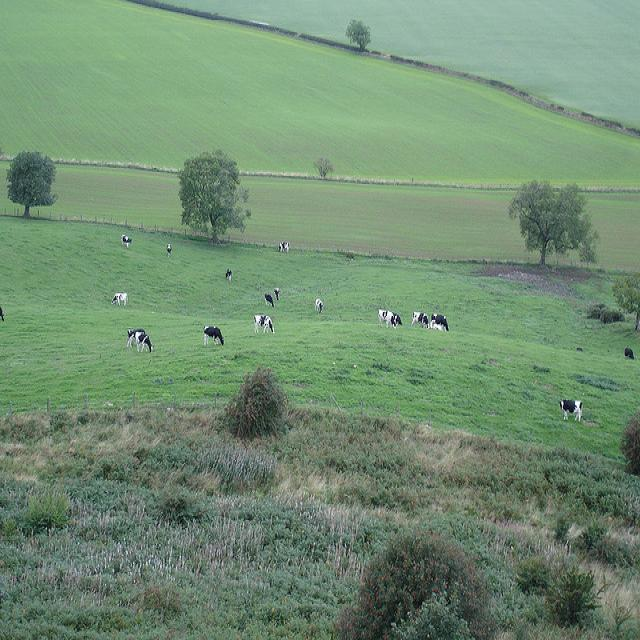cow: (0, 231, 588, 356), (557, 397, 581, 420), (201, 323, 224, 345), (133, 329, 153, 352), (252, 312, 273, 333), (377, 307, 396, 327), (409, 309, 427, 327), (309, 296, 323, 317), (111, 292, 127, 304), (263, 291, 273, 307), (120, 232, 131, 245), (223, 267, 231, 279), (272, 285, 278, 300), (165, 241, 170, 255)
